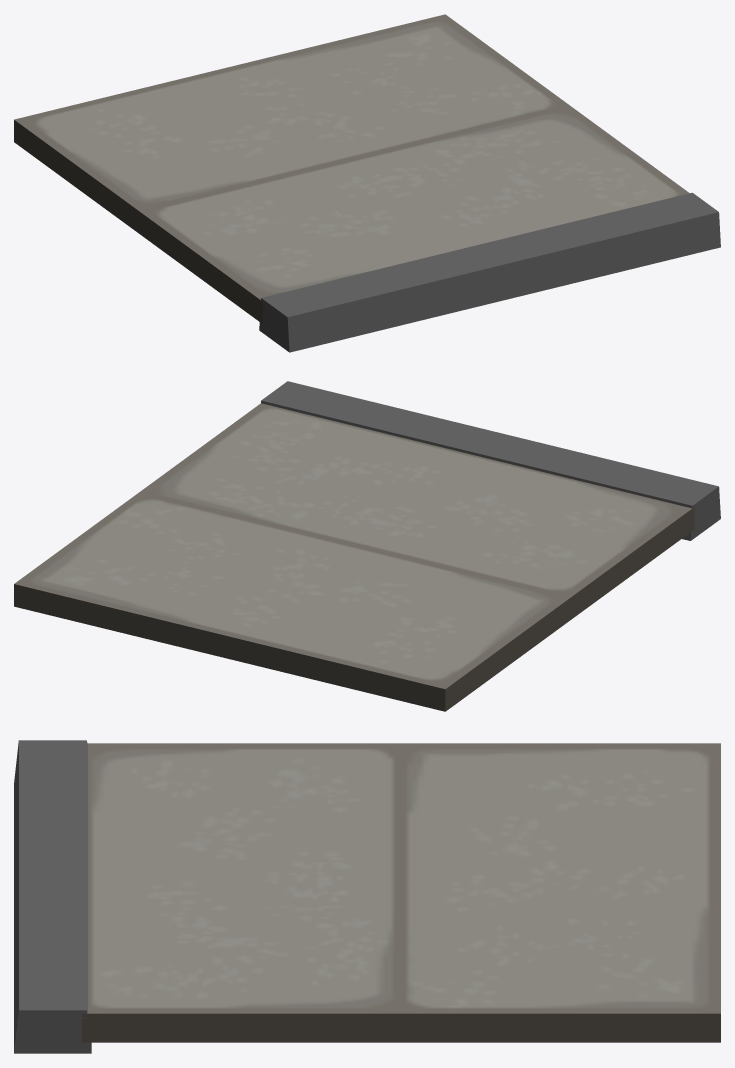
The model's file is Sidewalk_B2.fbx.
The picture shows the model from 3 angles, top to bottom: view 1: azimuth 30°, elevation 25°; view 2: azimuth 150°, elevation 25°; view 3: azimuth 270°, elevation 25°; orthographic projection. The views are drawn at different scales.
Visible parts, largest first — view 1: Sidewalk_B2; view 2: Sidewalk_B2; view 3: Sidewalk_B2.
Boxes of the visible parts, x1,y1,x2,y2 form: Sidewalk_B2: (14, 14, 720, 352); Sidewalk_B2: (14, 381, 720, 711); Sidewalk_B2: (14, 740, 720, 1053).
Size of the model in its own units: 400 by 30.09 by 443.
